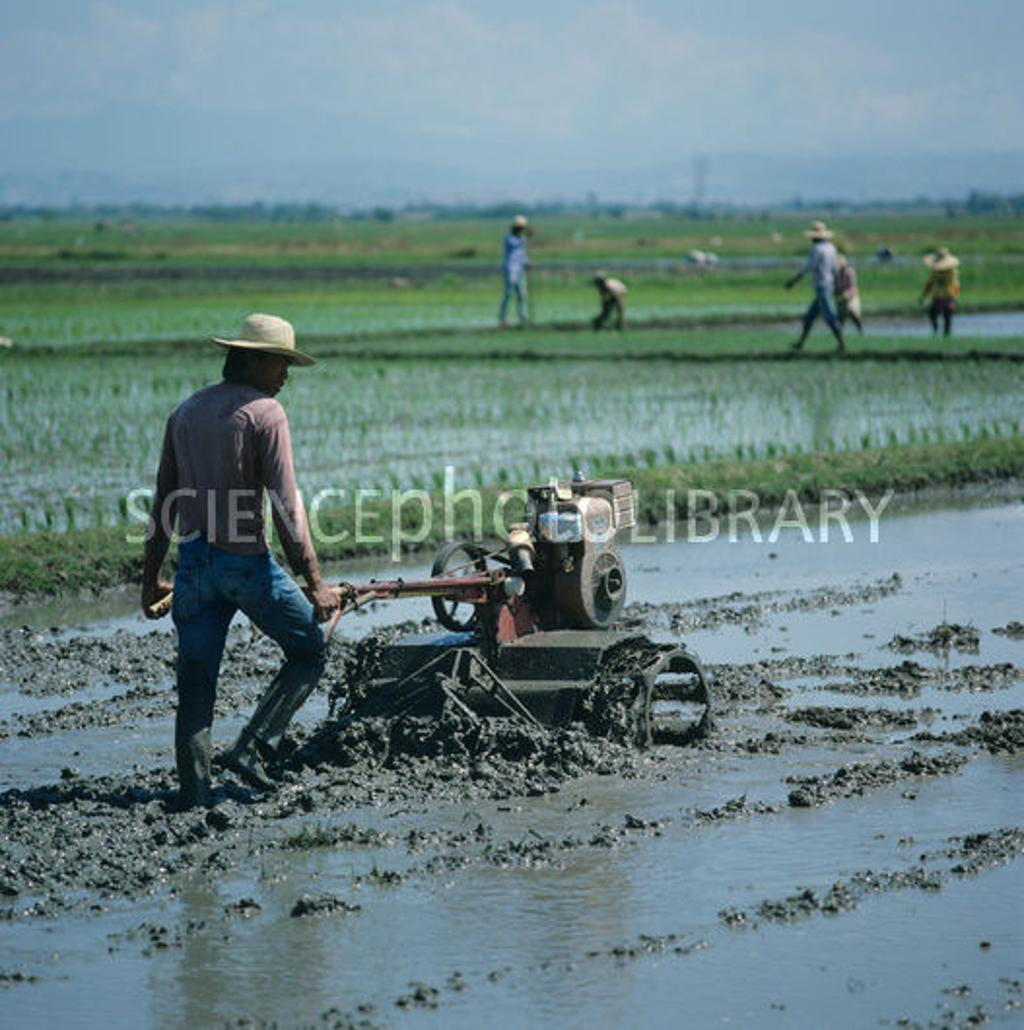face: (259, 354, 289, 395)
